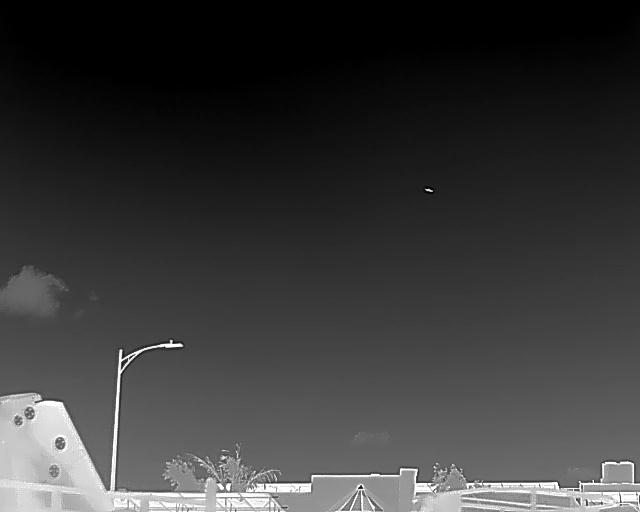fpv-drone: (424, 187, 433, 193)
